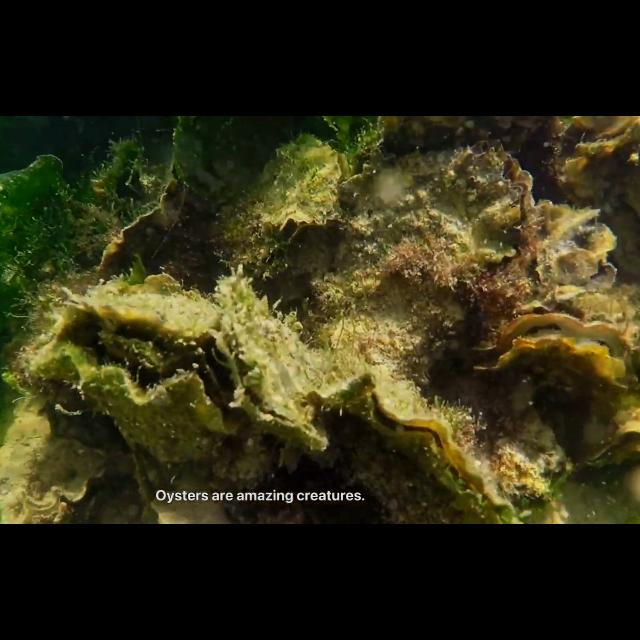Oyster-Closed: (95, 160, 219, 278)
Oyster-Open: (330, 134, 534, 388), (30, 289, 248, 461), (302, 365, 512, 525), (213, 270, 329, 450), (469, 309, 631, 399), (554, 116, 640, 278), (518, 196, 616, 310), (0, 431, 112, 525), (260, 142, 344, 245), (209, 184, 289, 278), (120, 429, 170, 525), (578, 403, 640, 467)
